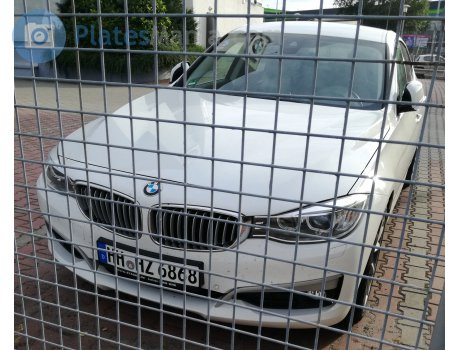License Plates: (111, 251, 197, 278), (113, 247, 120, 261), (127, 248, 134, 262)
